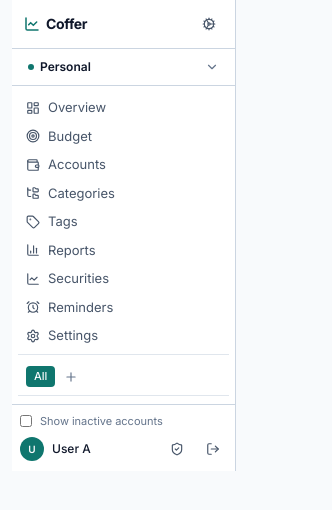
AuthedSidebar › the System settings gear navigates to /system
The width and height of the screenshot is (332, 510).
Click the button named "system settings". click: x=209, y=24
box: [195,10,223,38]
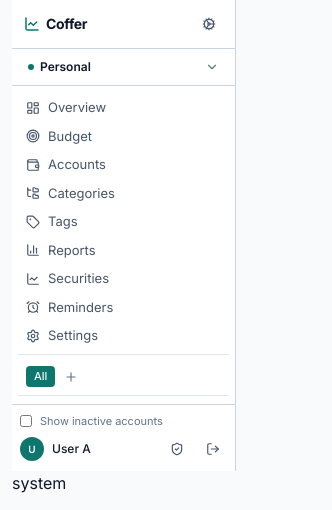
Expected: the text "system" is shown, [12,473,66,493]
